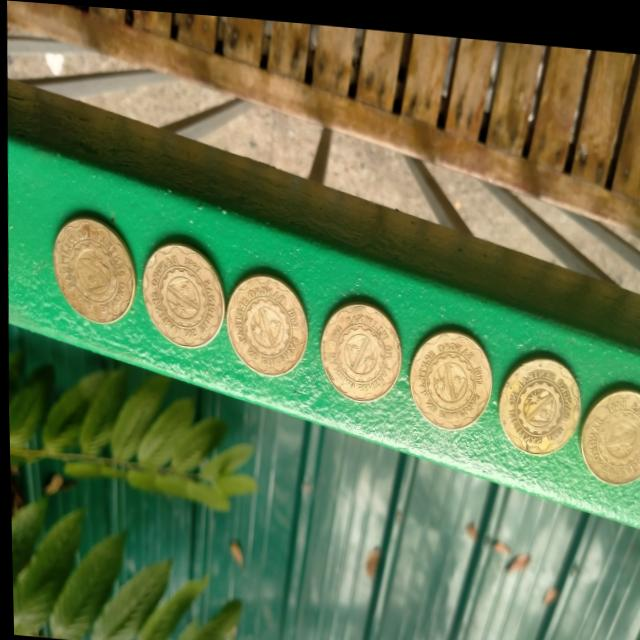5_Old_Back: (409, 326, 485, 423), (229, 271, 299, 363)
